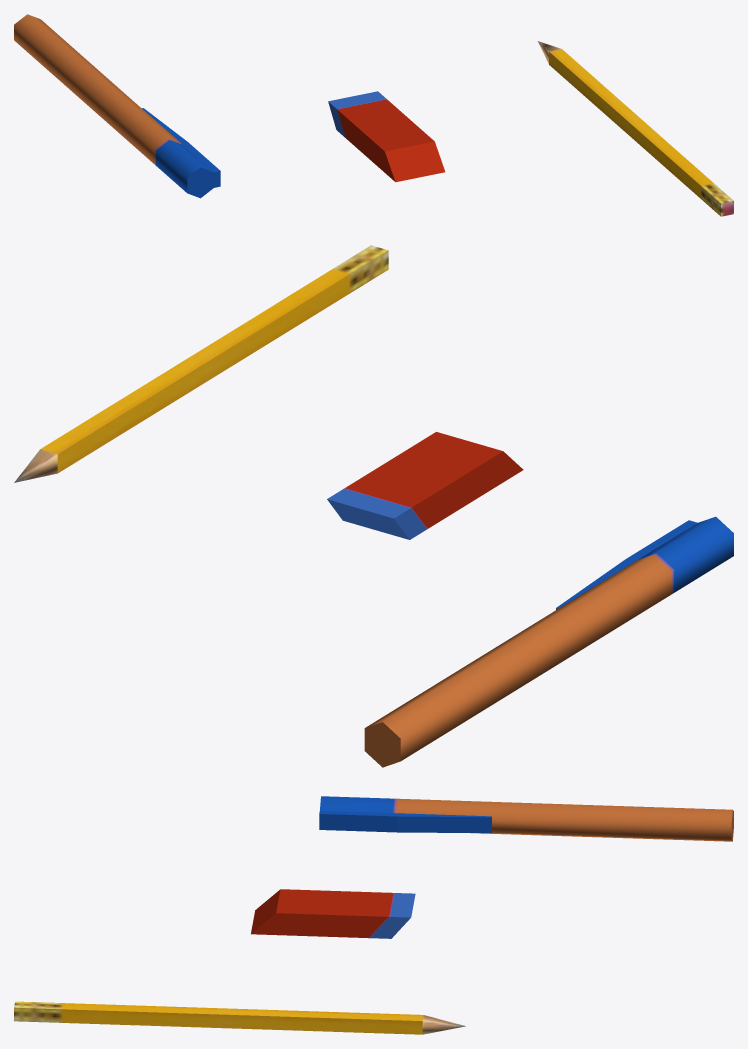
File: Карандаш Ручка Ластик.fbx
3 renders of one model, top to bottom at view 1: azimuth 30°, elevation 25°; view 2: azimuth 150°, elevation 25°; view 3: azimuth 270°, elevation 25°, orthographic. The views are drawn at different scales.
Visible parts, largest first — view 1: Карандаш_Ручка_Ластик; view 2: Карандаш_Ручка_Ластик; view 3: Карандаш_Ручка_Ластик.
Boxes of the visible parts, x1,y1,x2,y2 form: Карандаш_Ручка_Ластик: (14, 14, 733, 216); Карандаш_Ручка_Ластик: (14, 245, 733, 767); Карандаш_Ручка_Ластик: (14, 796, 733, 1034).
Bounding box in the file's own units: 15.4 × 1.09 × 22.03.
1 material, 1 textured.
